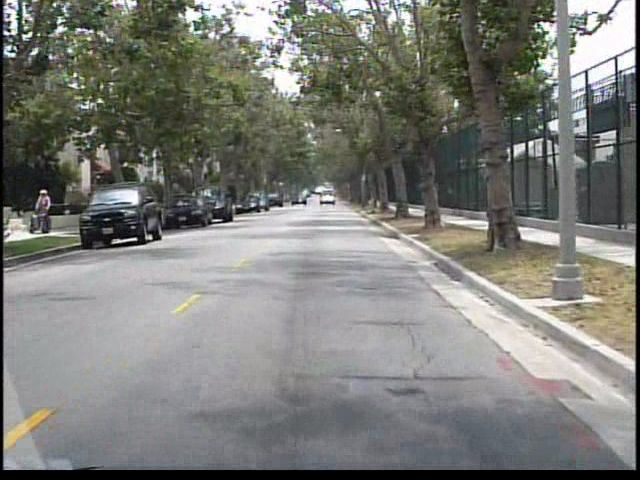person: (36, 188, 57, 235)
